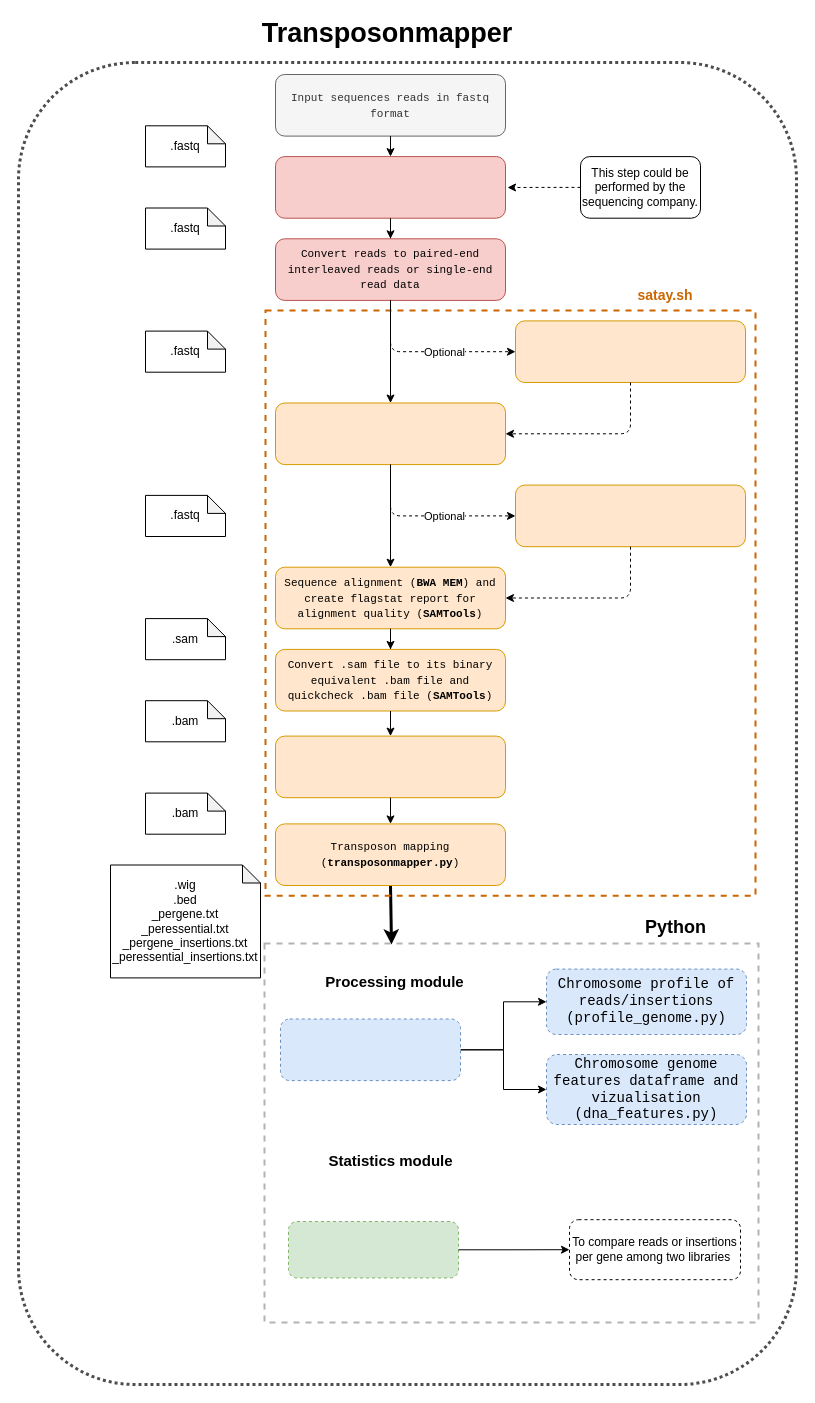
Image size: 815x1403. Some labels were removed from this diagram. The centre of each missing label's shape, as x and y in pixels:
Data cleaning (clean_bedwigfiles.py): the point at 370,1049
Demultiplex sequences based on barcode sequences: the point at 390,187
Indexing and sorting reads in .bam file ( SAMBamba ): the point at 390,766
Quality check raw data ( FASTQC ): the point at 630,351
Quality checking trimmed data ( FASTQC ): the point at 630,515
Trim adapter, primer and transposon sequences and low quality reads ( BBDuk ): the point at 390,433
Volcano plots (volcanoplot.py): the point at 373,1249
